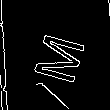M_W: (18, 26, 82, 85)
